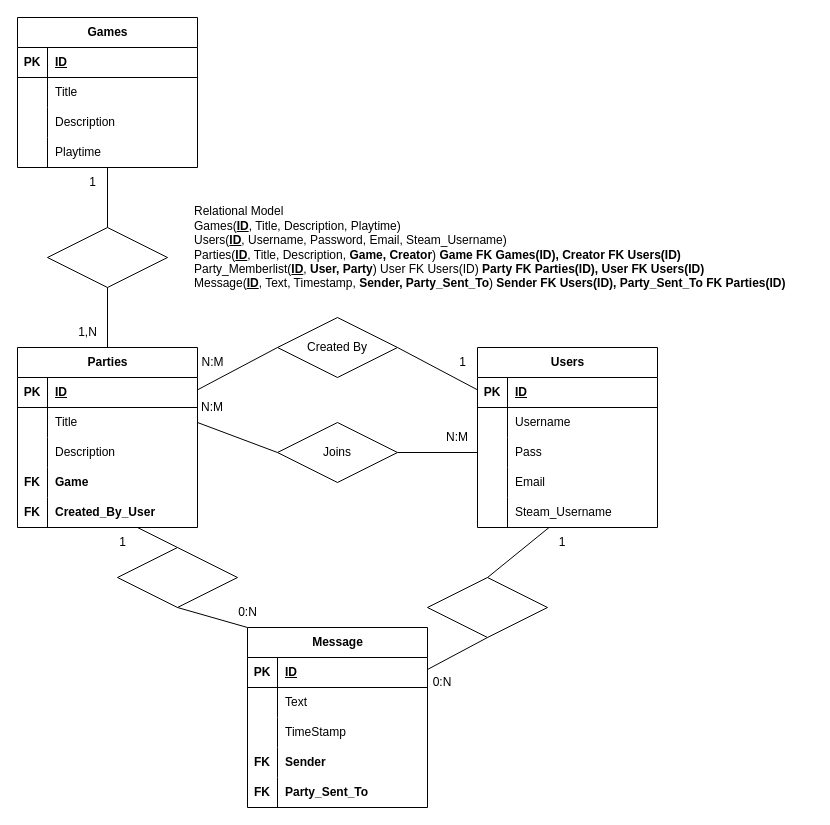
Image size: 830x825. Some labels were removed from this diagram. The centre of each missing label's shape, as x and y in pixels:
Contains: the point at 177,577
Has: the point at 107,257
Sent By: the point at 487,607
